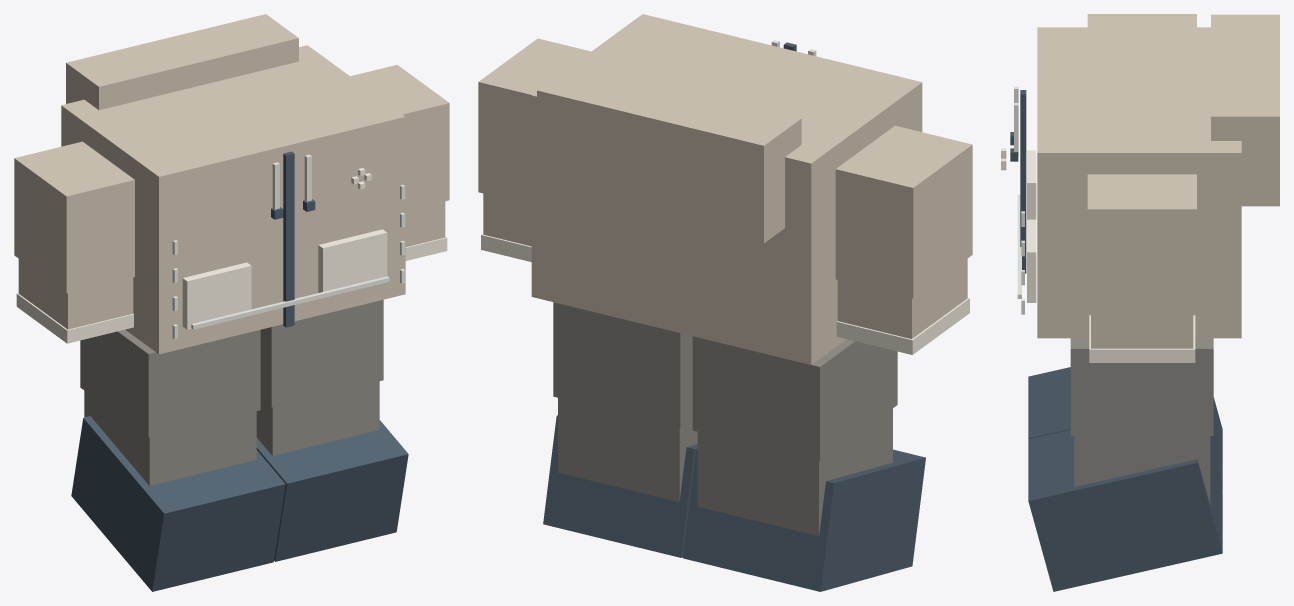
The model's file is hoodie-sand.glb.
3 views of the same model, side by side, from view 1: azimuth 30°, elevation 25°; view 2: azimuth 150°, elevation 25°; view 3: azimuth 270°, elevation 25° (orthographic). The views are drawn at different scales.
Parts seen in each view (by area): view 1: jacket, shoe-Right, upper-sleeve-Right, trouser-Right, shoe-Left, hood-back, trouser-Left, lower-trouser-Right, upper-sleeve-Left, lower-trouser-Left, lower-sleeve-Right, pocket--1 (+6 smaller); view 2: jacket, hood-back, upper-sleeve-Right, trouser-Right, shoe-Right, trouser-Left, lower-trouser-Right, lower-trouser-Left, upper-sleeve-Left, shoe-Left, lower-sleeve-Right, cuff-Right (+2 smaller); view 3: jacket, shoe-Left, upper-sleeve-Left, trouser-Left, hood-back, lower-trouser-Left, lower-sleeve-Left, shoe-Right, cuff-Left, upper-sleeve-Right, zip, pocket-1 (+2 smaller).
Part boxes in pixels (x1,y1,x2,y2): jacket: (61, 45, 405, 354); shoe-Right: (71, 416, 285, 591); upper-sleeve-Right: (14, 141, 134, 293); trouser-Right: (80, 329, 260, 437); shoe-Left: (256, 420, 408, 561); hood-back: (66, 14, 298, 110); trouser-Left: (260, 299, 383, 407); lower-trouser-Right: (84, 391, 256, 485); upper-sleeve-Left: (350, 65, 449, 210); lower-trouser-Left: (256, 381, 379, 455); lower-sleeve-Right: (18, 259, 133, 329); pocket--1: (182, 262, 251, 329); jacket: (531, 14, 922, 364); hood-back: (537, 63, 801, 243); upper-sleeve-Right: (835, 125, 972, 298); trouser-Right: (692, 336, 897, 461); shoe-Right: (682, 449, 925, 591); trouser-Left: (553, 302, 692, 427); lower-trouser-Right: (697, 408, 892, 535); lower-trouser-Left: (558, 398, 697, 501); upper-sleeve-Left: (478, 38, 590, 204); shoe-Left: (543, 415, 697, 557); lower-sleeve-Right: (837, 259, 967, 338); cuff-Right: (836, 297, 969, 354); jacket: (1037, 27, 1241, 338); shoe-Left: (1028, 429, 1222, 591); upper-sleeve-Left: (1087, 174, 1196, 310); trouser-Left: (1070, 338, 1213, 435); hood-back: (1211, 14, 1279, 206); lower-trouser-Left: (1074, 436, 1210, 504); lower-sleeve-Left: (1091, 310, 1193, 348); shoe-Right: (1028, 367, 1222, 490); cuff-Left: (1089, 315, 1195, 362); upper-sleeve-Right: (1087, 14, 1196, 27); zip: (1020, 90, 1026, 273); pocket-1: (1027, 219, 1036, 302).
Size of the model in its own units: 1.07 by 1.19 by 0.648.
